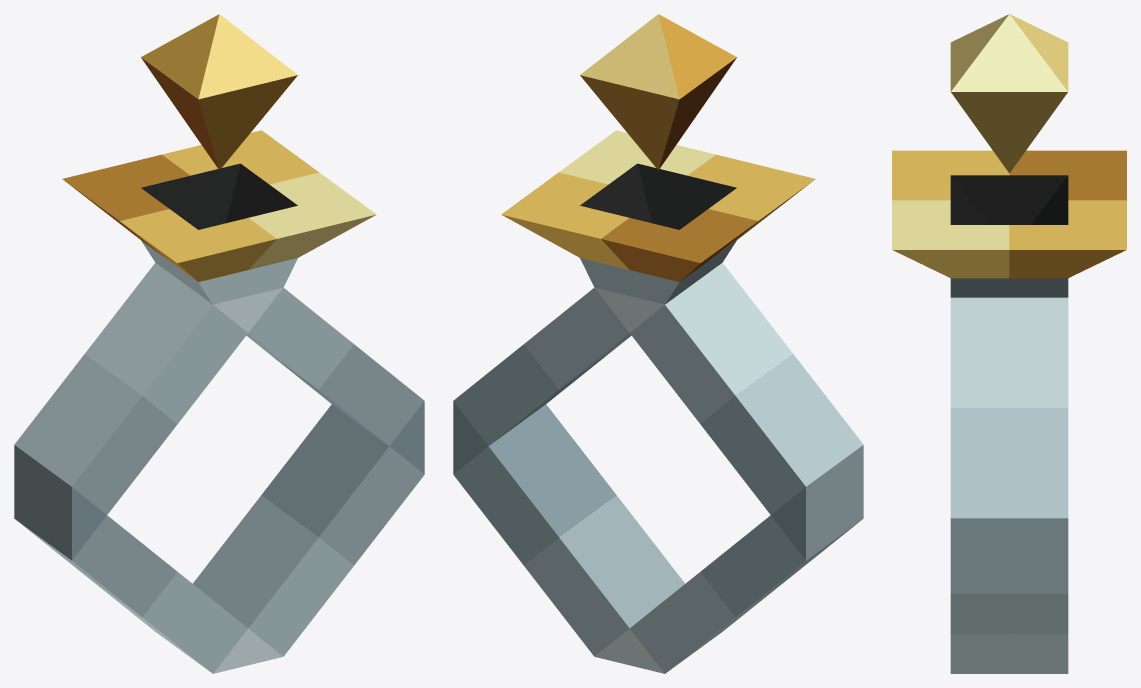
Rendered from ring_collection_greater.obj.
The picture shows the model from 3 angles, left to right: view 1: azimuth 30°, elevation 25°; view 2: azimuth 150°, elevation 25°; view 3: azimuth 270°, elevation 25°; orthographic projection.
Visible parts, largest first — view 1: RING_BASE_SILVER_Cube.036, RING_DECO_COLLECTION2_Cube.054; view 2: RING_BASE_SILVER_Cube.036, RING_DECO_COLLECTION2_Cube.054; view 3: RING_BASE_SILVER_Cube.036, RING_DECO_COLLECTION2_Cube.054.
Boxes of the visible parts, <box> form: RING_BASE_SILVER_Cube.036: <box>14,263,424,673</box>; RING_DECO_COLLECTION2_Cube.054: <box>62,14,376,304</box>; RING_BASE_SILVER_Cube.036: <box>453,263,863,673</box>; RING_DECO_COLLECTION2_Cube.054: <box>501,14,815,304</box>; RING_BASE_SILVER_Cube.036: <box>950,297,1068,673</box>; RING_DECO_COLLECTION2_Cube.054: <box>892,14,1126,297</box>.
Size of the model in its own units: 0.221 by 0.3772 by 0.125.
